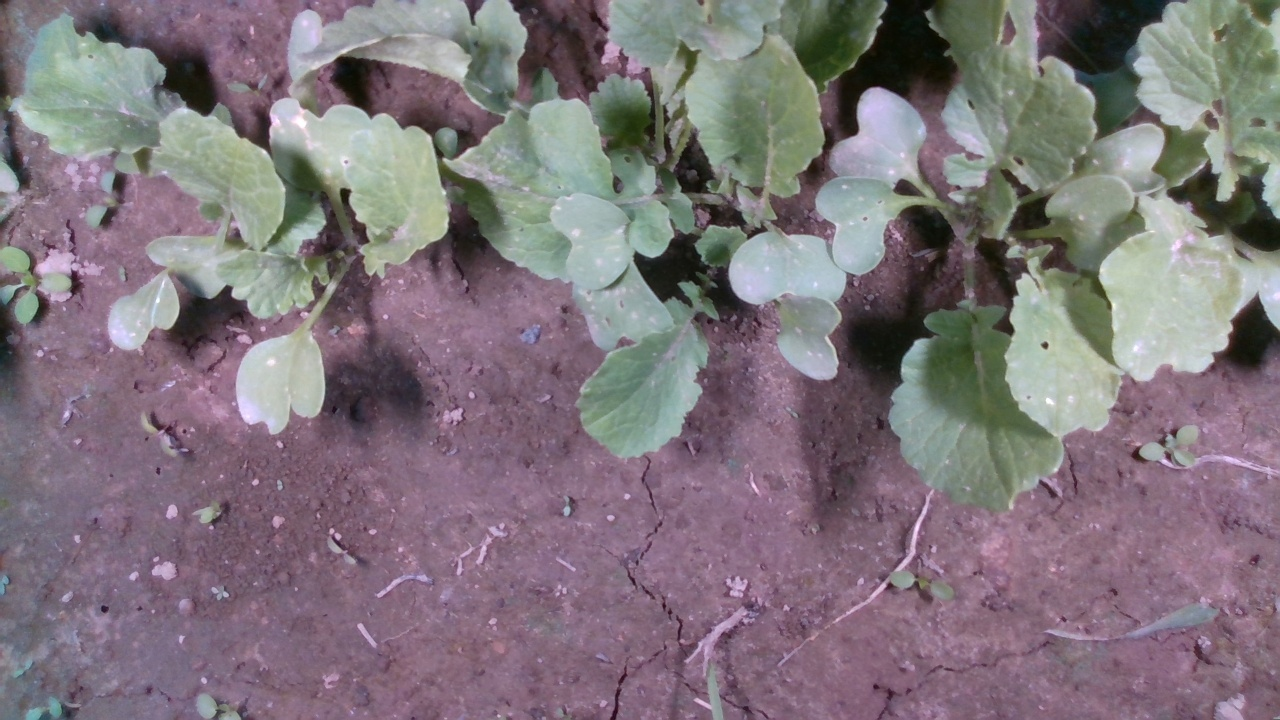weed: (1135, 421, 1207, 471), (881, 563, 961, 602)
